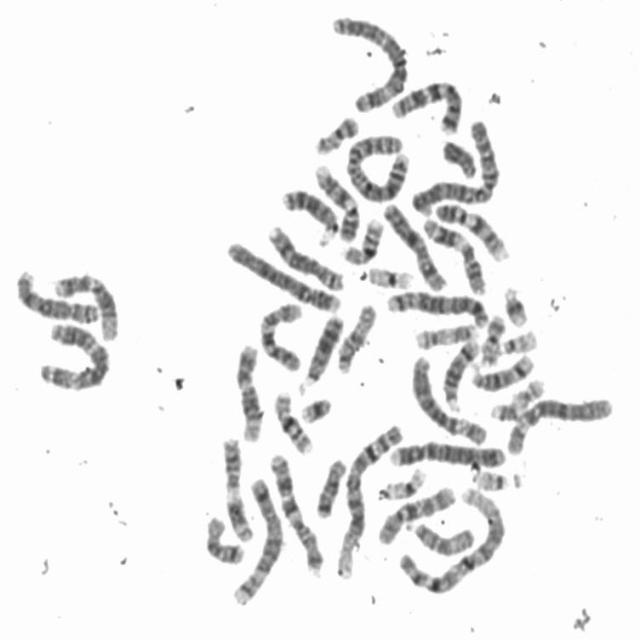A1: (394, 482, 509, 597), (332, 418, 405, 583)
A2: (409, 117, 502, 215), (341, 126, 413, 204)
A3: (328, 9, 412, 115), (34, 317, 112, 393)
B4: (221, 236, 342, 314), (385, 436, 509, 469)
B5: (227, 473, 284, 608), (381, 284, 491, 329)
C10: (372, 478, 458, 546), (254, 296, 306, 374)
C11: (418, 213, 488, 297), (218, 431, 256, 545)
C12: (49, 268, 120, 344), (233, 339, 266, 444)
C6: (408, 351, 489, 446), (502, 390, 616, 457)
C7: (264, 446, 326, 576), (387, 74, 465, 135)
C8: (264, 219, 348, 293), (11, 264, 100, 326)
C9: (432, 198, 512, 264), (310, 160, 362, 243)
D13: (294, 308, 346, 396), (278, 184, 340, 246)
D14: (438, 334, 482, 412), (466, 349, 536, 392)
D15: (332, 298, 379, 376), (407, 516, 476, 558)
E16: (269, 385, 315, 456), (341, 212, 386, 267)
E17: (486, 373, 547, 424), (412, 317, 481, 350)
E18: (312, 454, 349, 520), (201, 512, 246, 566)
F19: (374, 461, 429, 502), (364, 260, 416, 290)
F20: (310, 111, 360, 156), (478, 308, 508, 367)
G21: (500, 280, 531, 329), (296, 392, 334, 425)
G22: (470, 463, 525, 493), (496, 324, 540, 356)
X: (380, 197, 450, 294)
Y: (438, 135, 479, 181)
